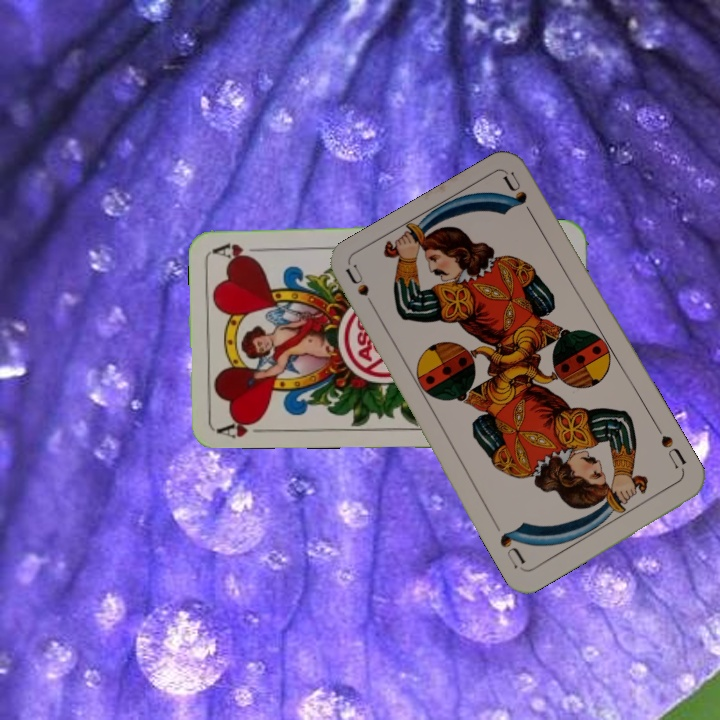HA: (214, 413, 273, 440)
SU: (342, 262, 382, 318), (652, 422, 689, 471)
